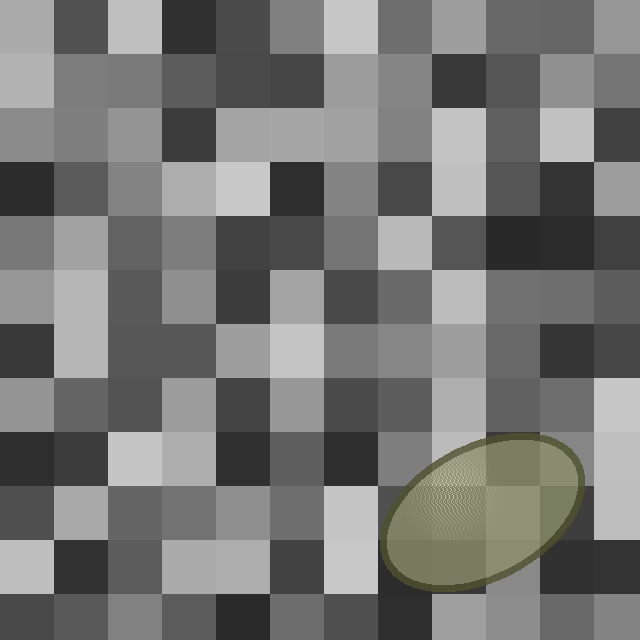lens: (383, 436, 581, 588)
